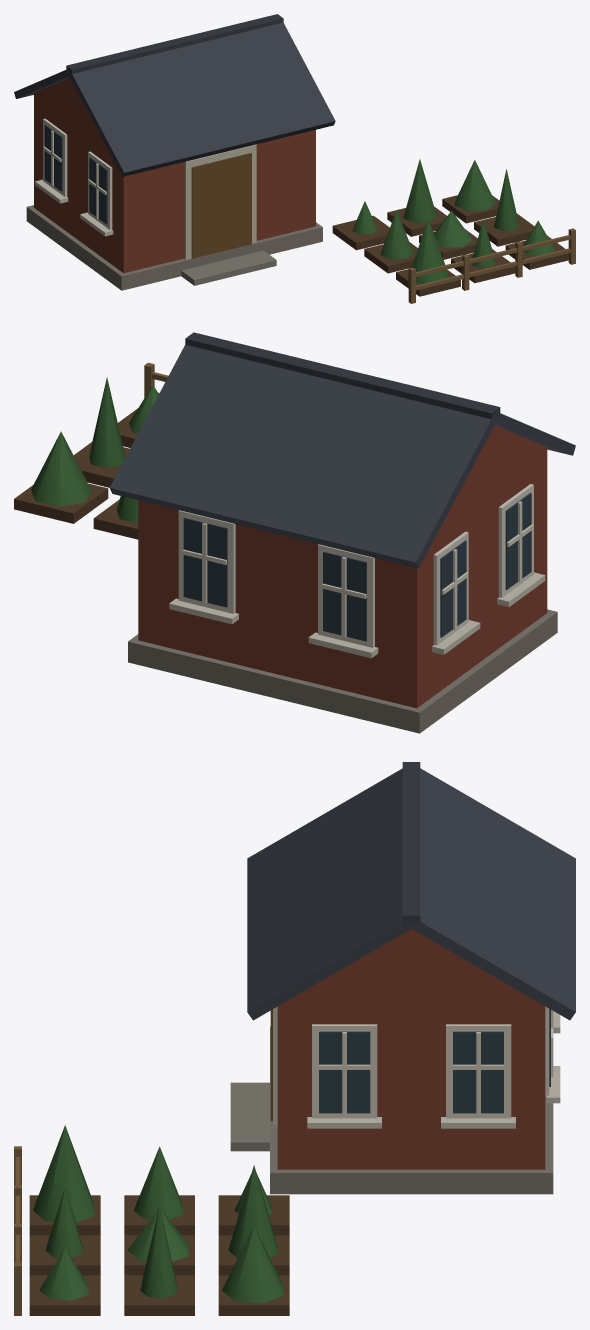
Rendered from procedural_forester@5.glb.
3 views of the same model, one above another, from view 1: azimuth 30°, elevation 25°; view 2: azimuth 150°, elevation 25°; view 3: azimuth 270°, elevation 25° (orthographic). The views are drawn at different scales.
Visible parts, largest first — view 1: part_0; view 2: part_0; view 3: part_0.
Boxes of the visible parts, x1,y1,x2,y2 form: part_0: (14,14,575,303); part_0: (14,332,575,733); part_0: (14,762,575,1315).
Bounding box in the file's own units: 8.16 × 3.96 × 7.14.
